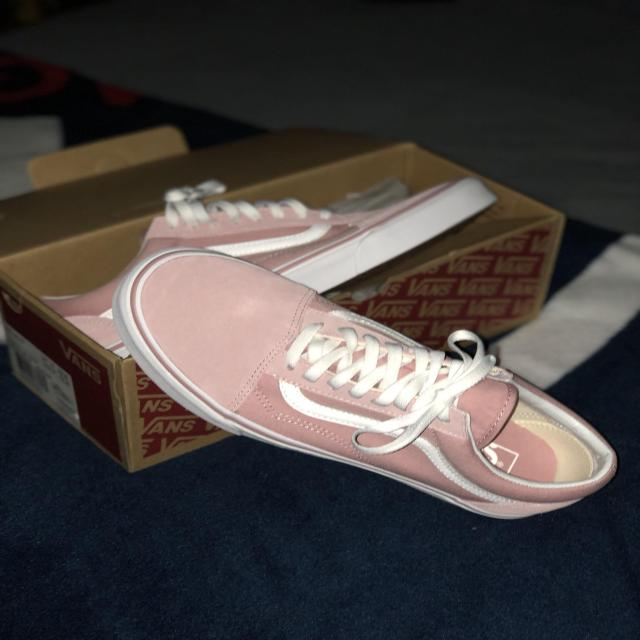shoes: (130, 252, 622, 546), (28, 167, 512, 339)
